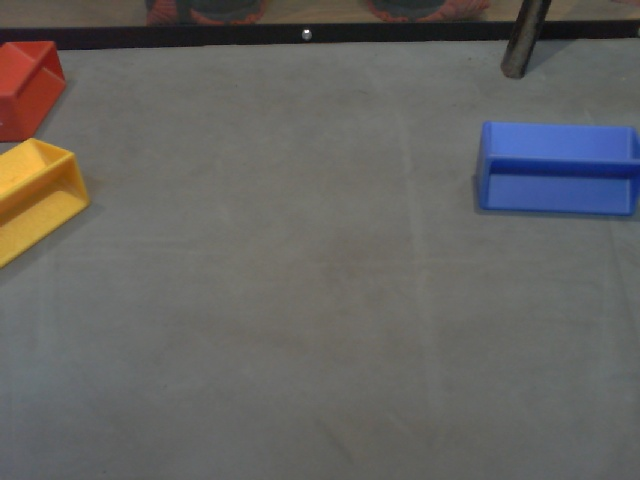BlueSample: (468, 118, 640, 223)
RedSample: (1, 39, 69, 143)
YellowSample: (1, 135, 91, 273)
